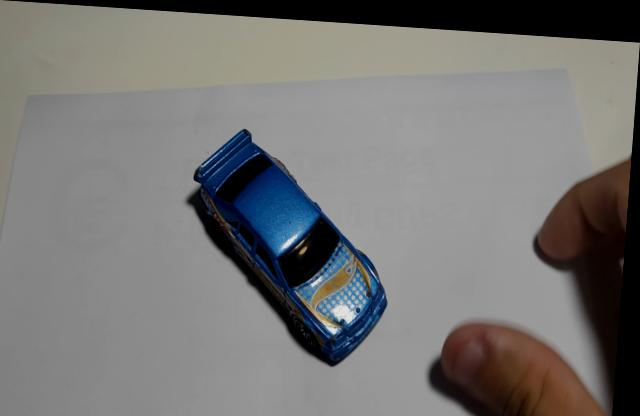04_MERZEDES: (189, 127, 393, 363)
